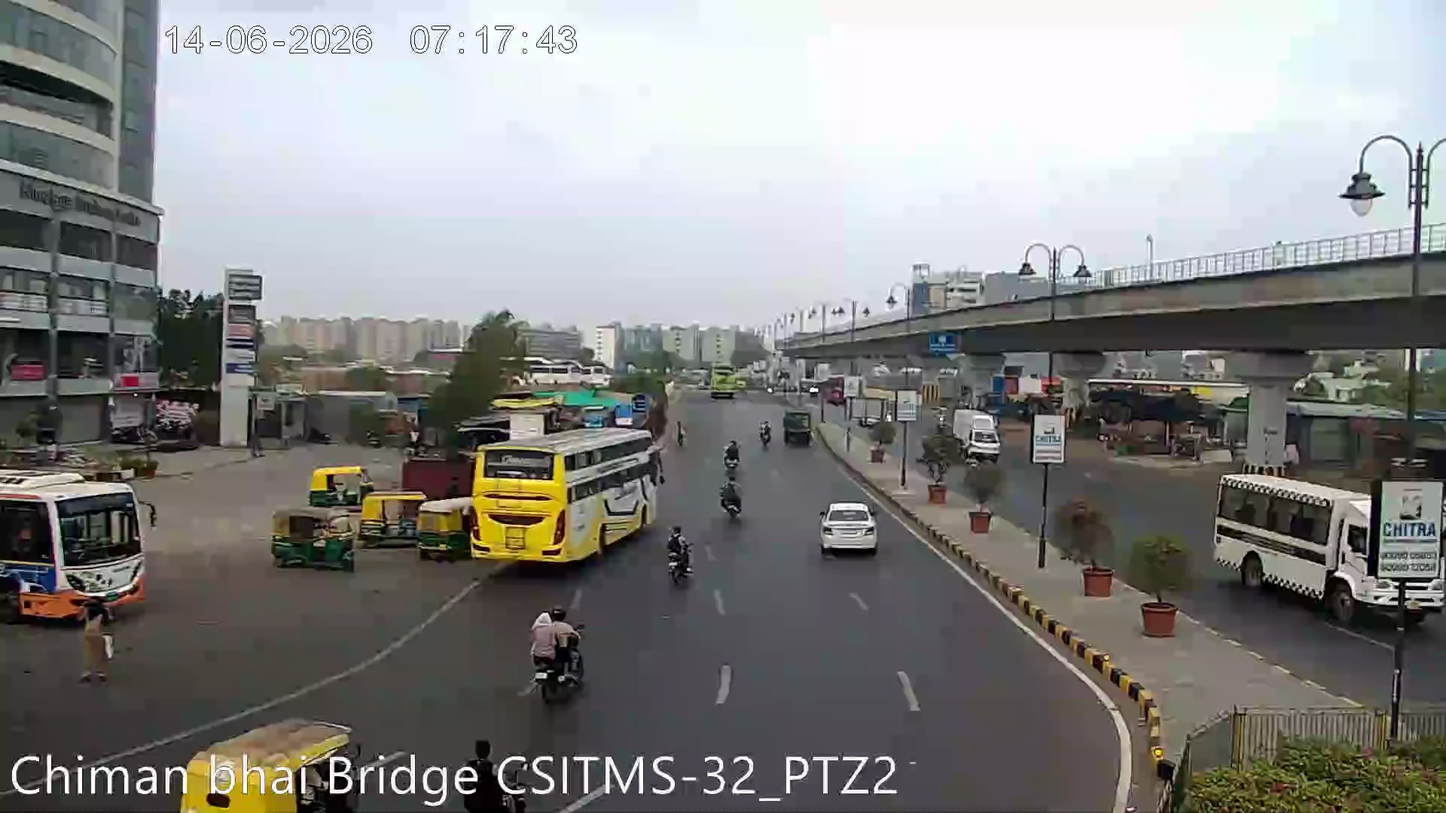auto_rickshaw: (187, 711, 365, 797), (266, 502, 358, 574), (357, 487, 426, 544), (415, 498, 472, 557), (307, 458, 372, 508), (782, 405, 815, 447), (709, 366, 741, 399)
bus: (1199, 468, 1446, 608), (0, 457, 160, 620), (465, 428, 665, 554)
car: (817, 496, 880, 558)
pedestrian: (756, 416, 774, 454)
two_wheeler: (522, 603, 590, 701), (662, 521, 695, 589), (716, 468, 748, 526)
